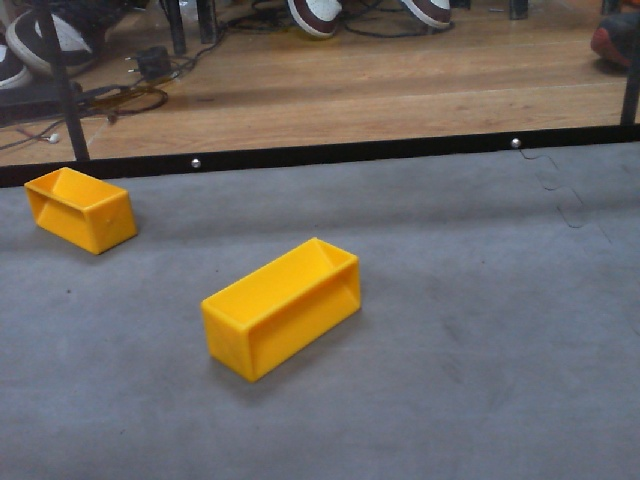YellowSample: (196, 237, 363, 390), (23, 162, 141, 257)
